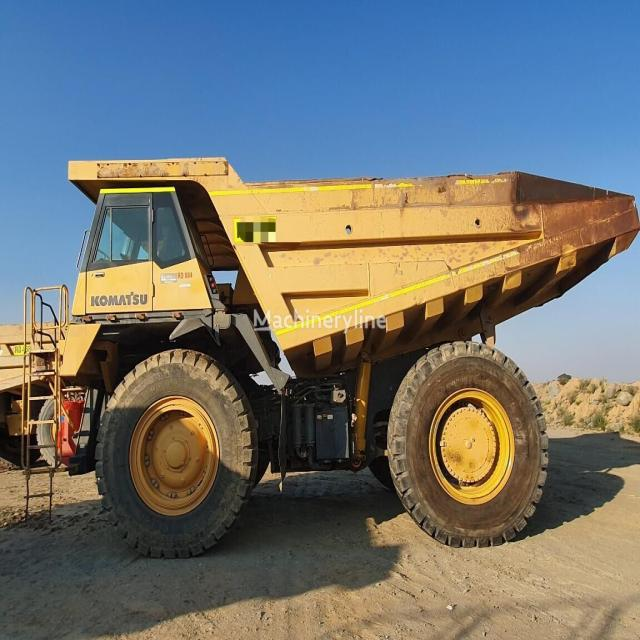dump_truck: (26, 133, 640, 556)
